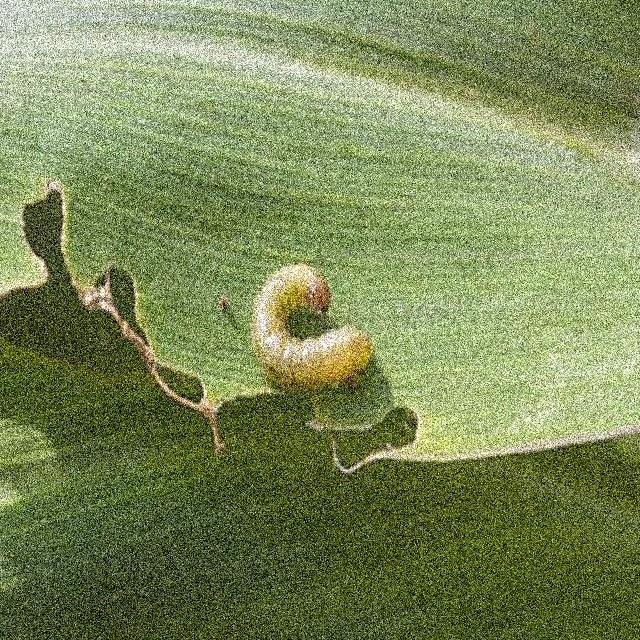gusano_cogollero: (252, 260, 371, 394)
